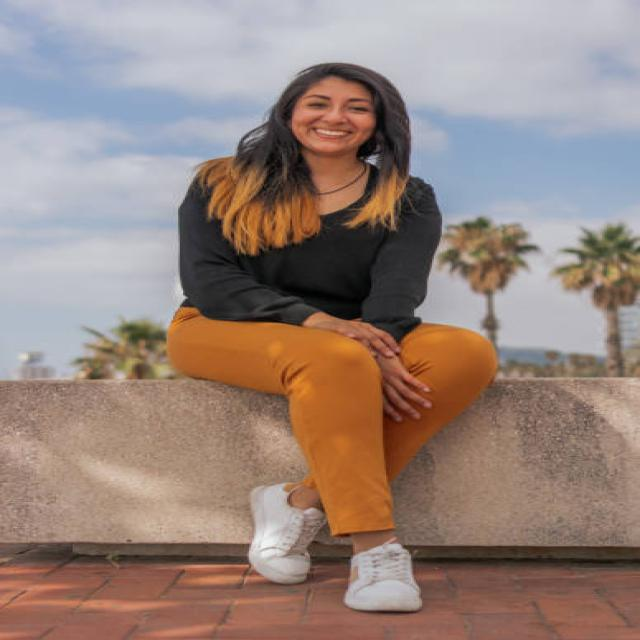Real human 2: (144, 49, 522, 628)
